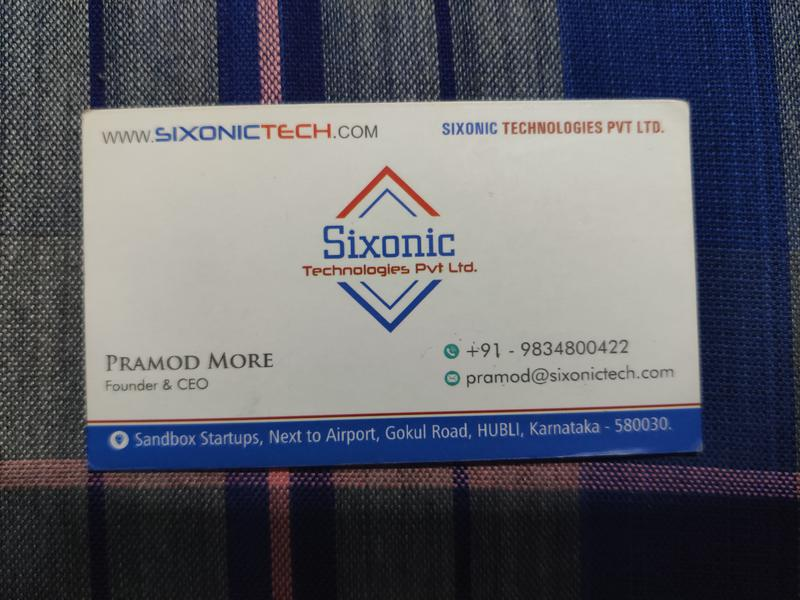card: (80, 99, 702, 468)
